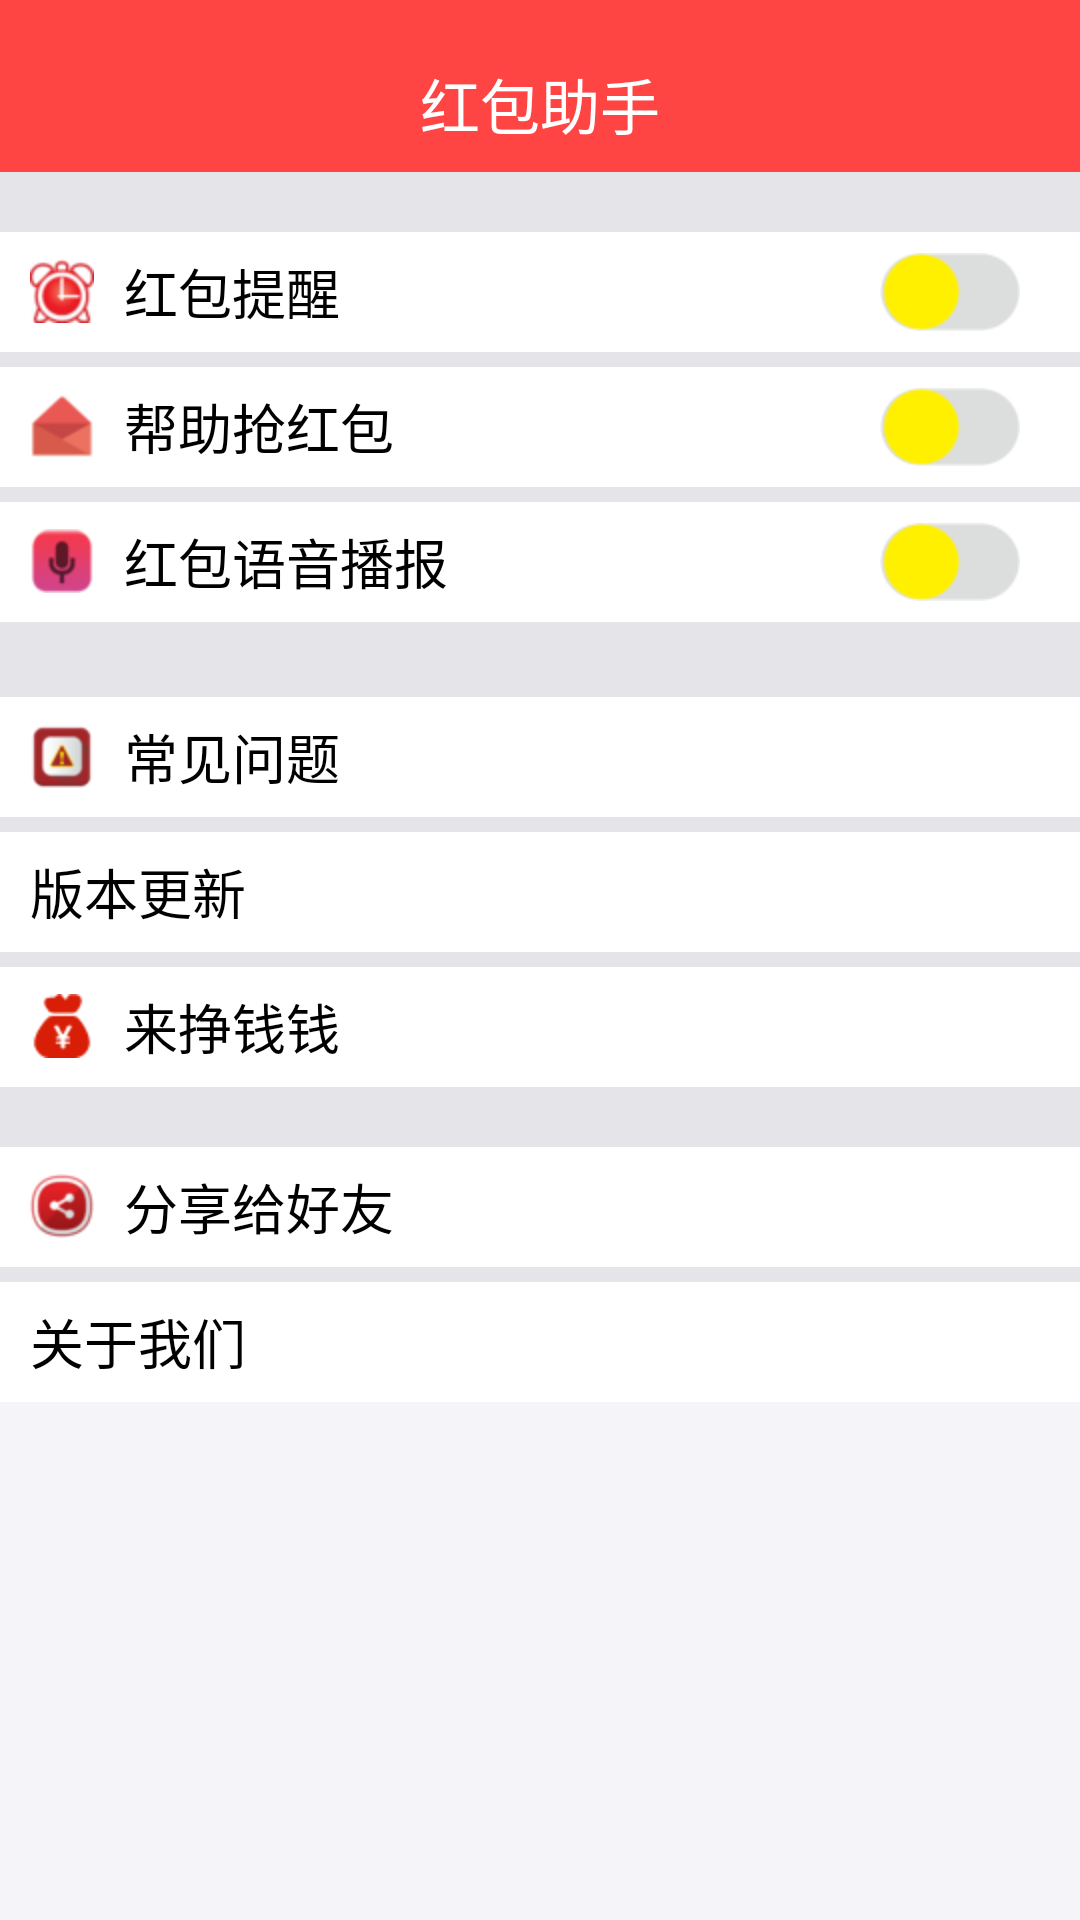

Where to tap for icons on this 1080 × 1920 app screen, as point (x, y):
switch: point (950, 292), point (950, 427), point (950, 562)
